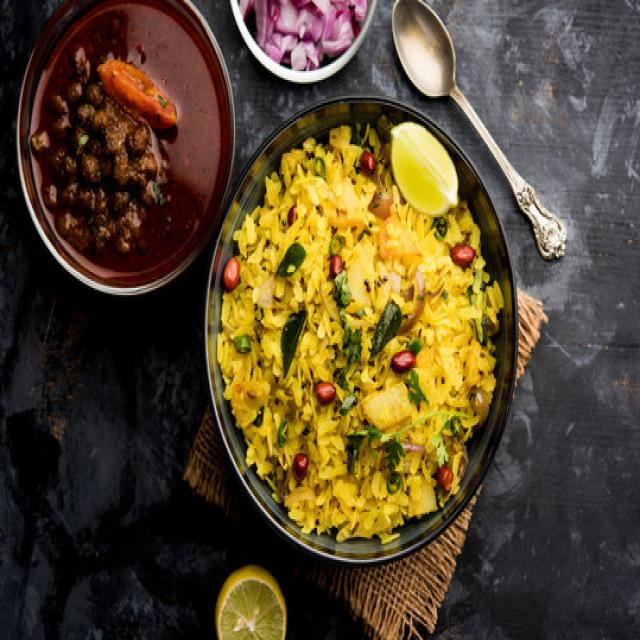UPMA: (217, 123, 500, 539)
